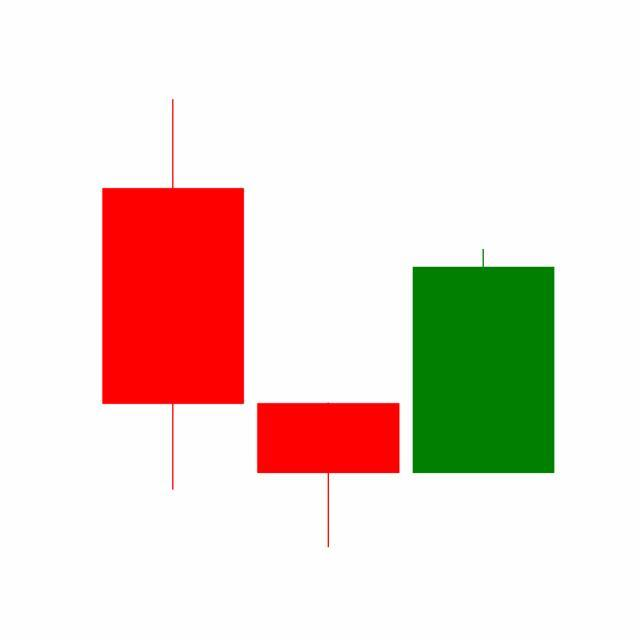Marubozu: (406, 247, 562, 475)
